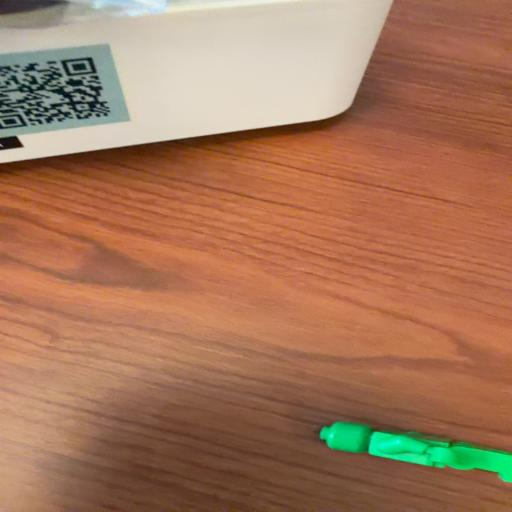UnoQ-minifig-detector: (320, 422, 512, 482)
